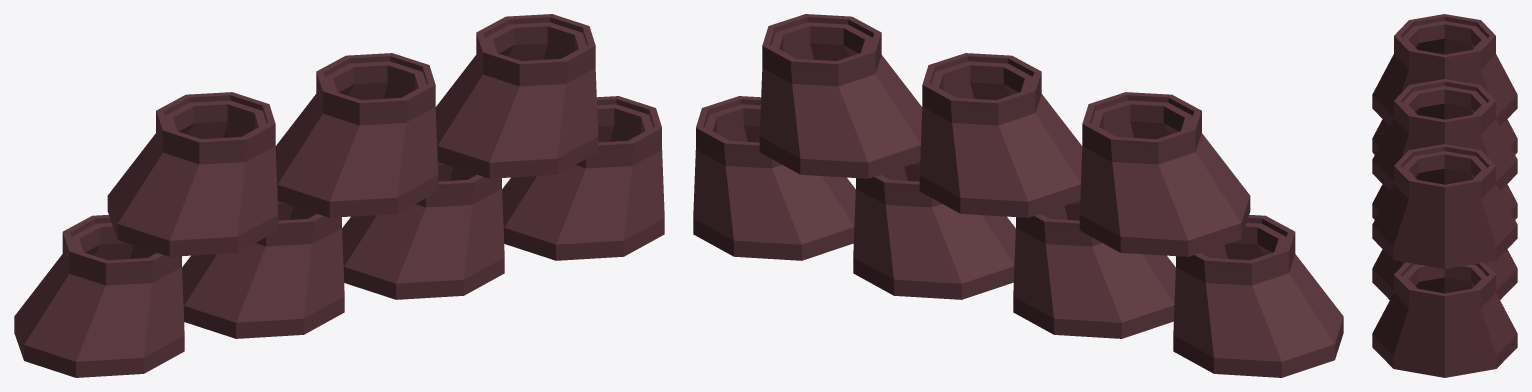
Rendered from concrete-ring-upper-stack.fbx.
The picture shows the model from 3 angles, left to right: view 1: azimuth 30°, elevation 25°; view 2: azimuth 150°, elevation 25°; view 3: azimuth 270°, elevation 25°; orthographic projection. The views are drawn at different scales.
Visible parts, largest first — view 1: concrete-ring-upper-stack; view 2: concrete-ring-upper-stack; view 3: concrete-ring-upper-stack.
Part boxes in pixels (<box>): concrete-ring-upper-stack: <box>14,14,664,377</box>; concrete-ring-upper-stack: <box>693,14,1343,377</box>; concrete-ring-upper-stack: <box>1372,14,1517,377</box>.
Bounding box in the file's own units: 5.14 × 1.53 × 1.23.
